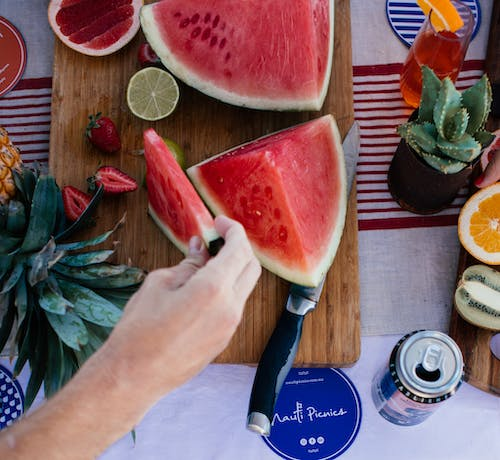knife: (244, 120, 362, 437)
